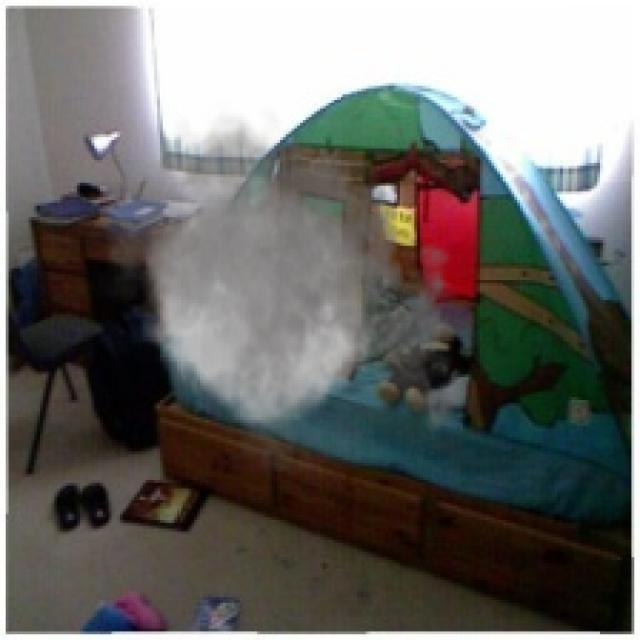Smoke: (88, 100, 474, 497)
